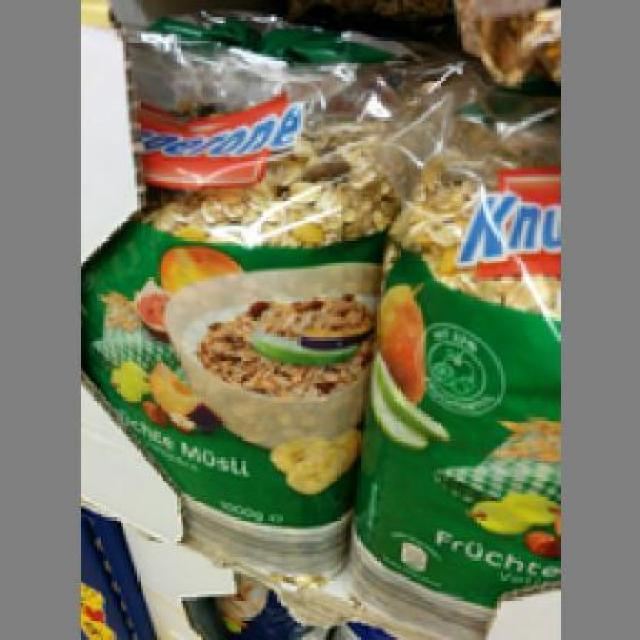Cereal: (77, 37, 452, 566), (340, 125, 560, 626)
